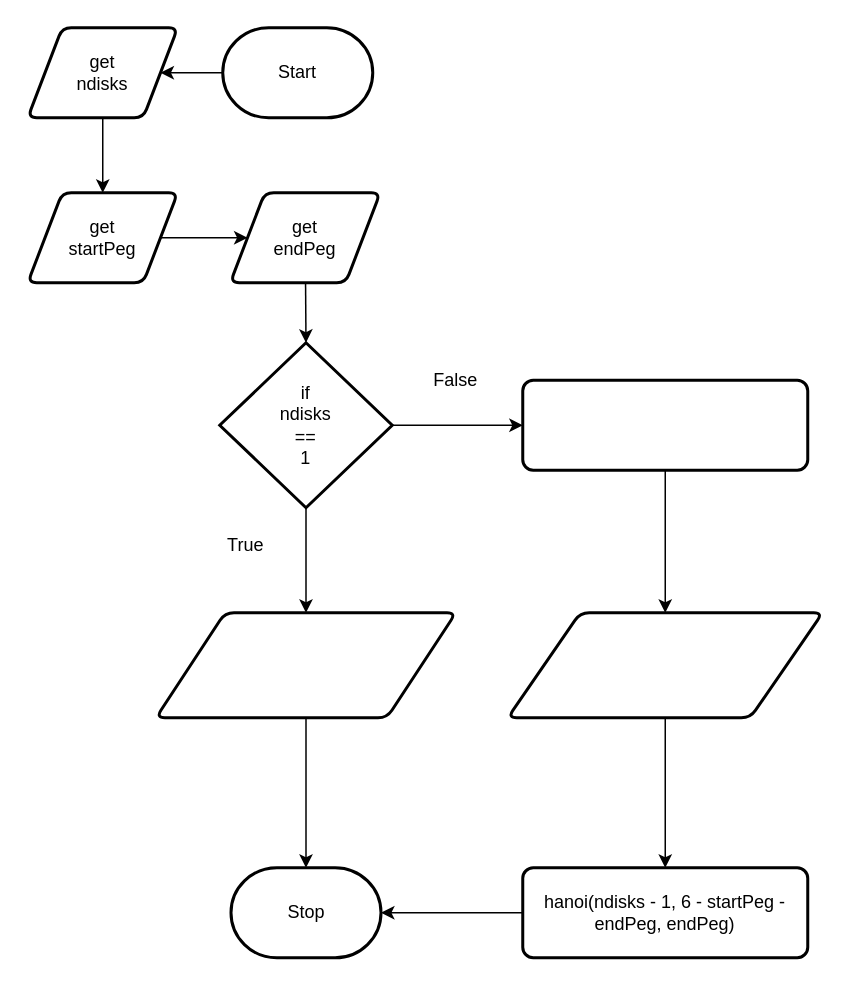
Image size: 849x984. Some labels were removed from this diagram. Here are the shapes that lost their labels. From the top down, the centre of each, then its label:
point (664, 424): hanoi(ndisks - 1, startPeg, 6 - startPeg - endPeg)
point (305, 664): print "Move disk 1 from peg ${startPeg} to peg ${endPeg}"
point (665, 664): print "Move disk ${ndisks} from peg ${startPeg} to peg ${endPeg}"
